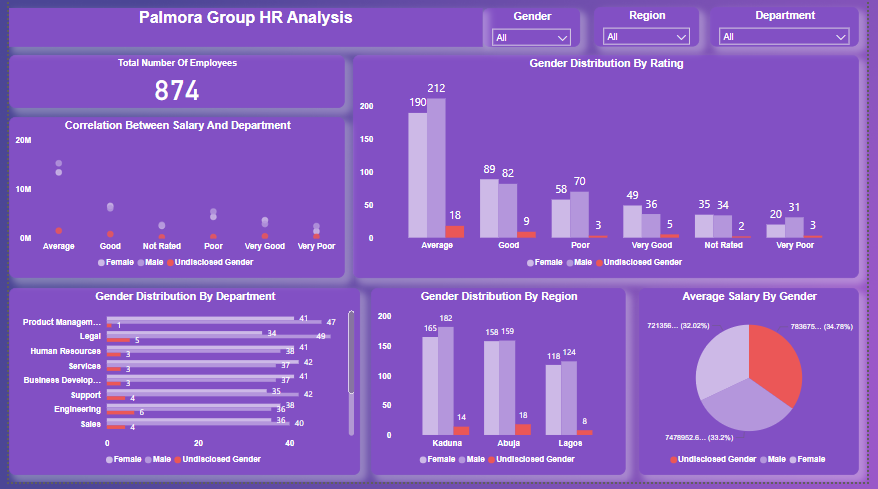

Layout of this report page (visuals, bound fields, positions):
{"tool":"powerbi","page":{"name":"Page 1","canvas":[1280,720],"ordinal":0},"visuals":[{"type":"card","title":"Total Number Of Employees","fields":{"Values":["Palmoria Group emp-data.Name"]},"box":[0,82.1,501.1,79.2],"z":0},{"type":"clusteredColumnChart","title":"Gender Distribution By Rating","fields":{"Y":["Palmoria Group emp-data.Gender"],"Category":["Palmoria Group emp-data.Rating"],"Series":["Palmoria Group emp-data.Gender"]},"box":[514.1,82.1,754.6,332.6],"z":1000},{"type":"clusteredBarChart","title":"Gender Distribution By Department","fields":{"Y":["Palmoria Group emp-data.Gender"],"Series":["Palmoria Group emp-data.Gender"],"Category":["Palmoria Group emp-data.Department"]},"box":[0,429.1,524.2,279.4],"z":2000},{"type":"clusteredColumnChart","title":"Gender Distribution By Region","fields":{"Category":["Palmoria Group emp-data.Region"],"Y":["Palmoria Group emp-data.Gender"],"Series":["Palmoria Group emp-data.Gender"]},"box":[540,430.6,380.2,279.4],"z":3000},{"type":"pieChart","title":"Average Salary By Gender","fields":{"Category":["Palmoria Group emp-data.Gender"],"Y":["Palmoria Group emp-data.Average Salary by Gender"]},"box":[940.3,430.6,328.3,279.4],"z":4000},{"type":"slicer","title":"Department","fields":{"Values":["Palmoria Group emp-data.Department"]},"box":[1046.9,10.1,221.8,59],"z":5000},{"type":"slicer","title":"Region","fields":{"Values":["Palmoria Group emp-data.Region"]},"box":[872.6,10.1,157,59],"z":6000},{"type":"scatterChart","title":"Correlation Between Salary And Department","fields":{"X":["Palmoria Group emp-data.Rating"],"Y":["Palmoria Group emp-data.Salary"],"Series":["Palmoria Group emp-data.Gender"]},"box":[0,174.2,501.1,240.5],"z":7000},{"type":"slicer","title":"Gender","fields":{"Values":["Palmoria Group emp-data.Gender"]},"box":[707,11.5,145.4,57.6],"z":8000},{"type":"textbox","title":"Palmora Group HR Analysis","box":[0,11.5,707,57.6],"z":9000}]}

Visuals, with their boxes in screenshot pixels (x1, y1, x2, y2), scaled from the page's 1280x720 canvas onto the 878x489 screenshot:
"Total Number Of Employees" card: left=0, top=56, right=344, bottom=110
"Gender Distribution By Rating" clusteredColumnChart: left=353, top=56, right=870, bottom=282
"Gender Distribution By Department" clusteredBarChart: left=0, top=291, right=360, bottom=481
"Gender Distribution By Region" clusteredColumnChart: left=370, top=292, right=631, bottom=482
"Average Salary By Gender" pieChart: left=645, top=292, right=870, bottom=482
"Department" slicer: left=718, top=7, right=870, bottom=47
"Region" slicer: left=599, top=7, right=706, bottom=47
"Correlation Between Salary And Department" scatterChart: left=0, top=118, right=344, bottom=282
"Gender" slicer: left=485, top=8, right=585, bottom=47
"Palmora Group HR Analysis" textbox: left=0, top=8, right=485, bottom=47
